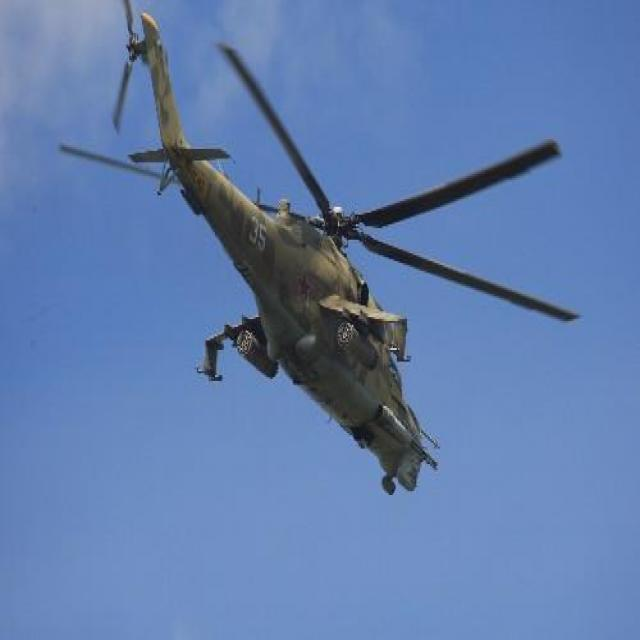MIL_HELO: (66, 0, 588, 529)
